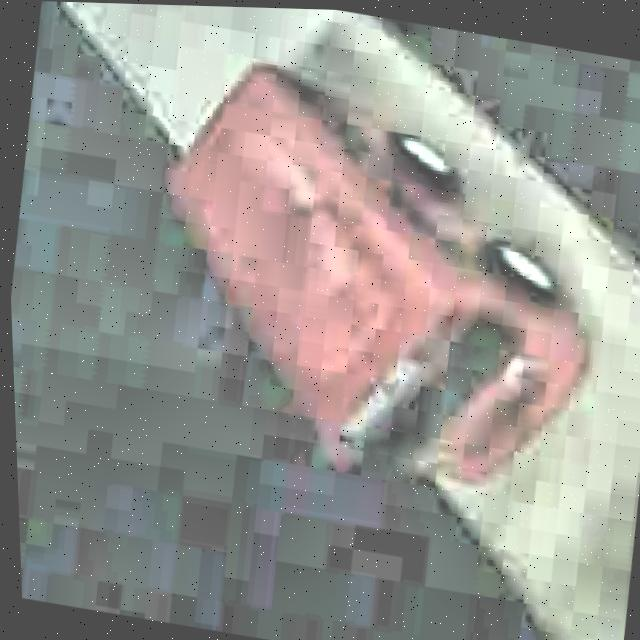bus: (124, 41, 632, 505)
